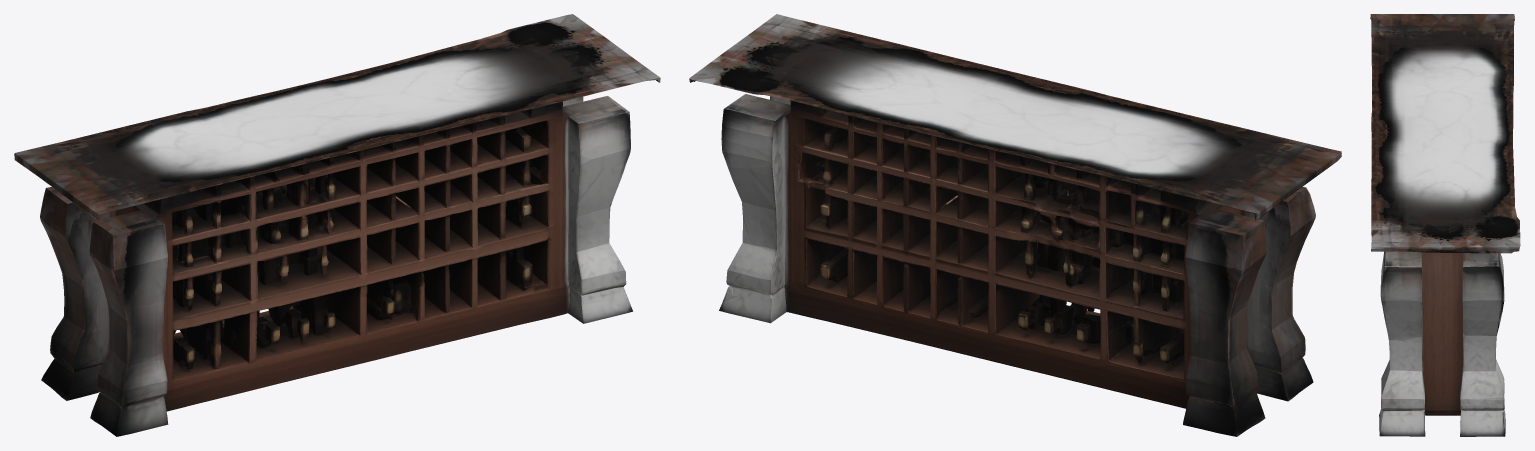
3 renders of one model, left to right at view 1: azimuth 30°, elevation 25°; view 2: azimuth 150°, elevation 25°; view 3: azimuth 270°, elevation 25°, orthographic. The views are drawn at different scales.
Visible parts, largest first — view 1: world; view 2: world; view 3: world.
Boxes of the visible parts, x1,y1,x2,y2 form: world: (14, 14, 660, 436); world: (689, 14, 1341, 436); world: (1370, 14, 1520, 436).
Bounding box in the file's own units: 1 × 0.3956 × 0.2715.
1 material, 1 textured.
